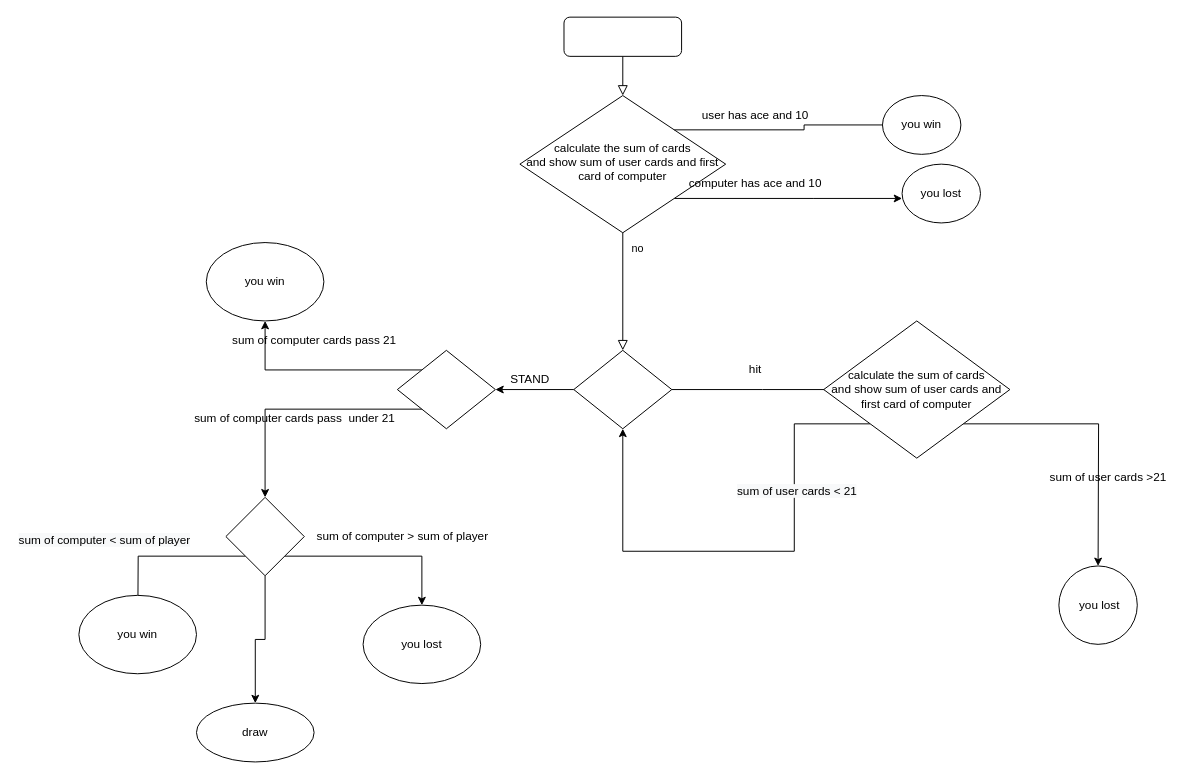
Image size: 1188x779. Some labels were removed from this diagram. The centre of each missing label's shape, as x and y in pixels:
"add computer card until sum of computer card pass 17" goes at (445,389).
"ask user hit or stand" goes at (622,389).
"compare sum of cards" goes at (264,536).
"split two card to both" goes at (622,36).
